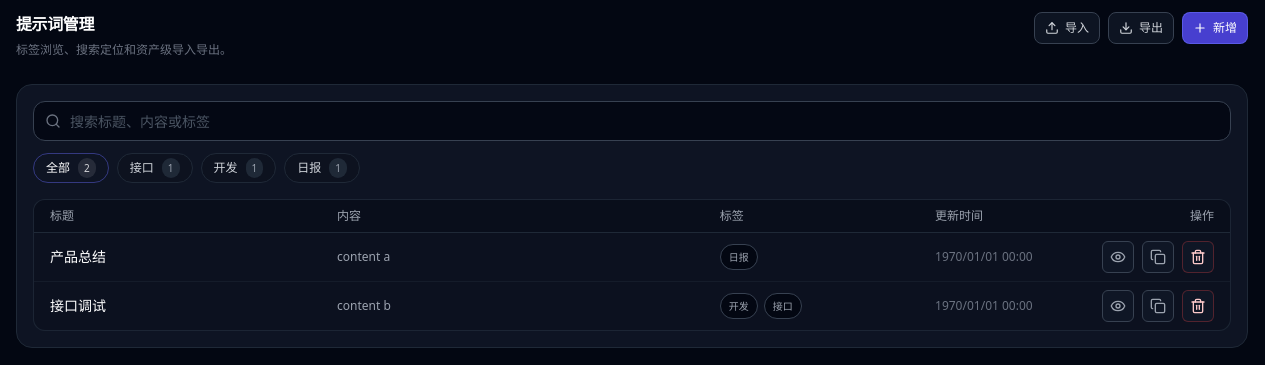
Test case: PromptsPage › filters prompt rows by flattened category tag
expect the text "产品总结" is shown: met, box [50,247,106,266]
expect the text "接口调试" is shown: met, box [50,296,106,315]
Click the button "开发 1".
click(238, 168)  # box [200,153,276,183]
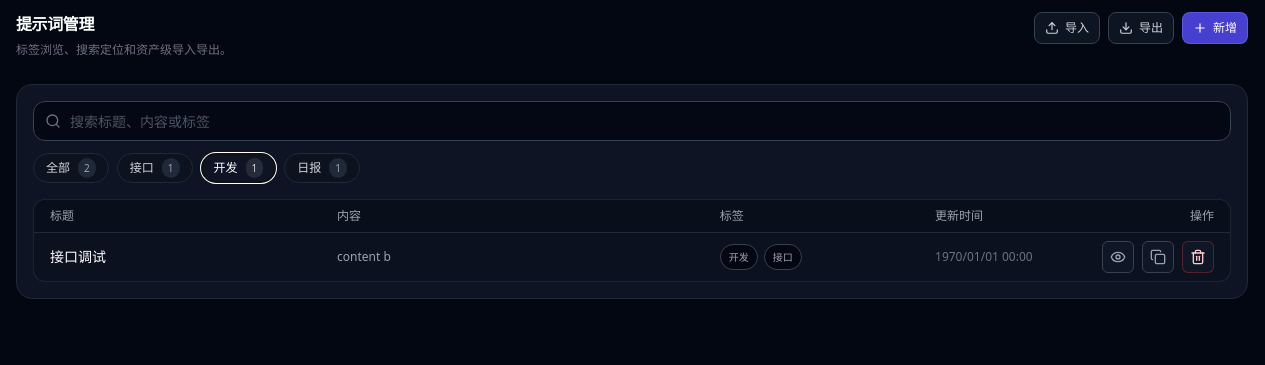
expect the text "接口调试" is shown: met, box [50,247,106,266]
expect the text "产品总结" is gone: met
